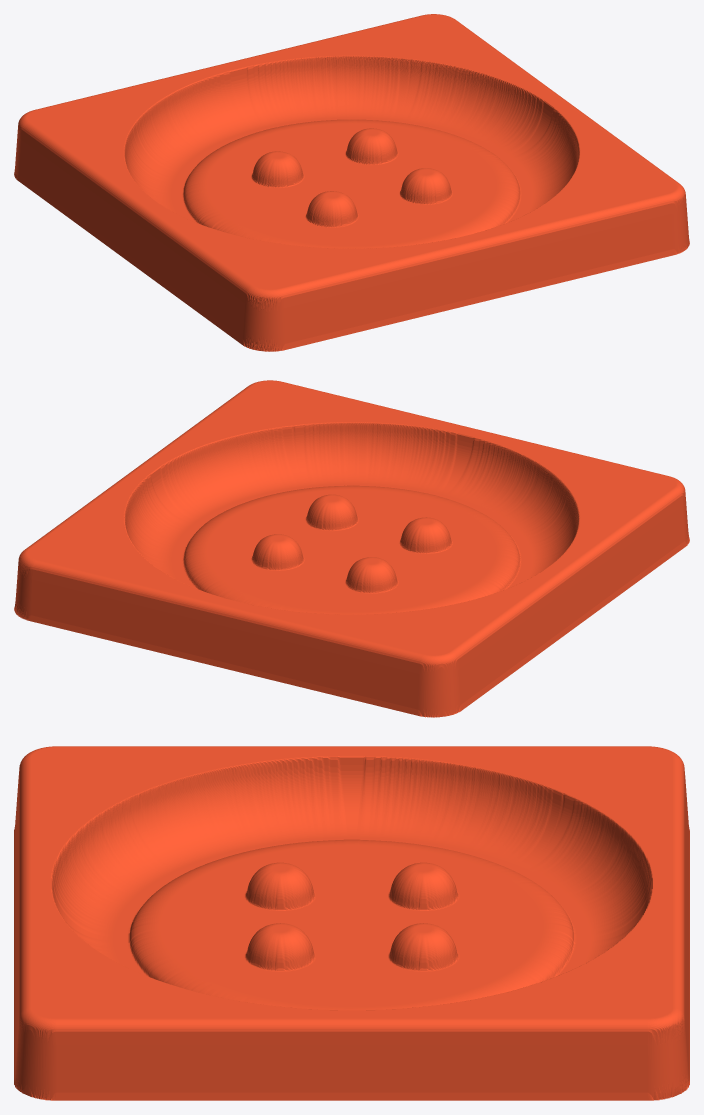
The model's file is mold.glb.
3 views of the same model, one above another, from view 1: azimuth 30°, elevation 25°; view 2: azimuth 150°, elevation 25°; view 3: azimuth 270°, elevation 25° (orthographic). The views are drawn at different scales.
Parts seen in each view (by area): view 1: geometry_0; view 2: geometry_0; view 3: geometry_0.
Boxes of the visible parts, x1,y1,x2,y2 form: geometry_0: (14, 14, 689, 351); geometry_0: (14, 380, 689, 717); geometry_0: (14, 746, 689, 1100).
Bounding box in the file's own units: 0.1435 × 0.0175 × 0.1435.
